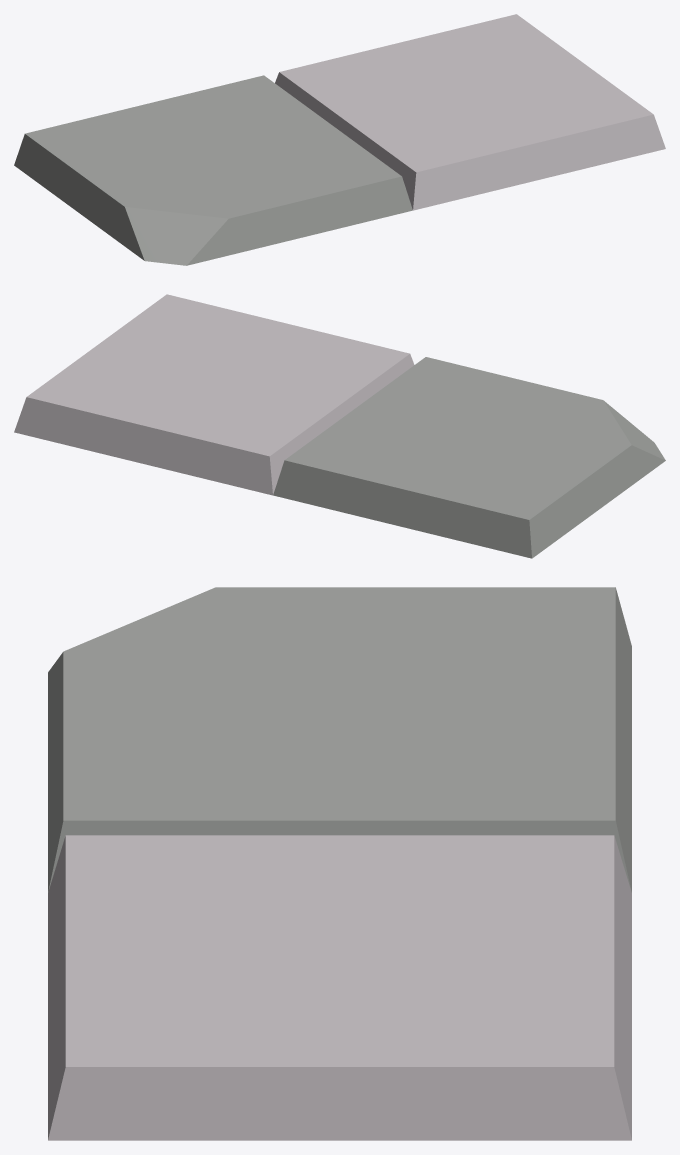
File: Rock_Tiles_m_08.fbx
3 views of the same model, one above another, from view 1: azimuth 30°, elevation 25°; view 2: azimuth 150°, elevation 25°; view 3: azimuth 270°, elevation 25° (orthographic). The views are drawn at different scales.
Visible parts, largest first — view 1: Rock_Tiles_m_08; view 2: Rock_Tiles_m_08; view 3: Rock_Tiles_m_08.
Boxes of the visible parts, <box> form: Rock_Tiles_m_08: <box>14,14,665,265</box>; Rock_Tiles_m_08: <box>14,294,665,558</box>; Rock_Tiles_m_08: <box>48,587,631,1140</box>.
Bounding box in the file's own units: 80 × 5.01 × 40.
